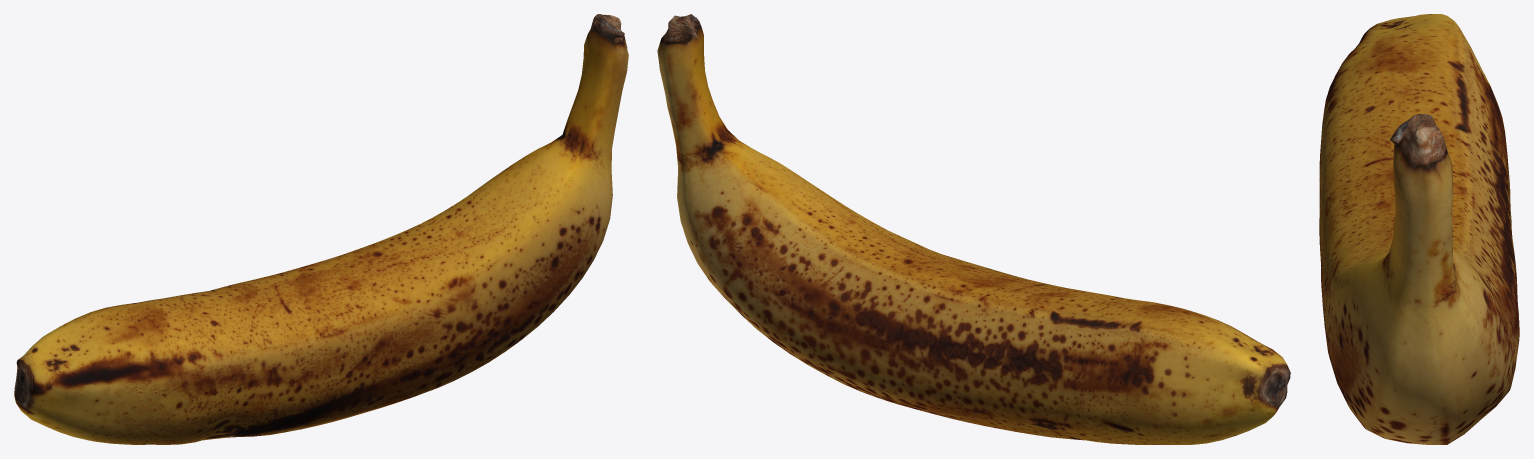
The model's file is banana.glb.
The picture shows the model from 3 angles, left to right: view 1: azimuth 30°, elevation 25°; view 2: azimuth 150°, elevation 25°; view 3: azimuth 270°, elevation 25°; orthographic projection. The views are drawn at different scales.
Visible parts, largest first — view 1: Object_2; view 2: Object_2; view 3: Object_2.
Boxes of the visible parts, box(x1,y1,x2,y2) form: Object_2: box(14, 14, 628, 444); Object_2: box(657, 14, 1290, 444); Object_2: box(1319, 14, 1519, 444).
Bounding box in the file's own units: 18.56 × 9.56 × 3.93.
Materials: 1 (1 with a texture image).
